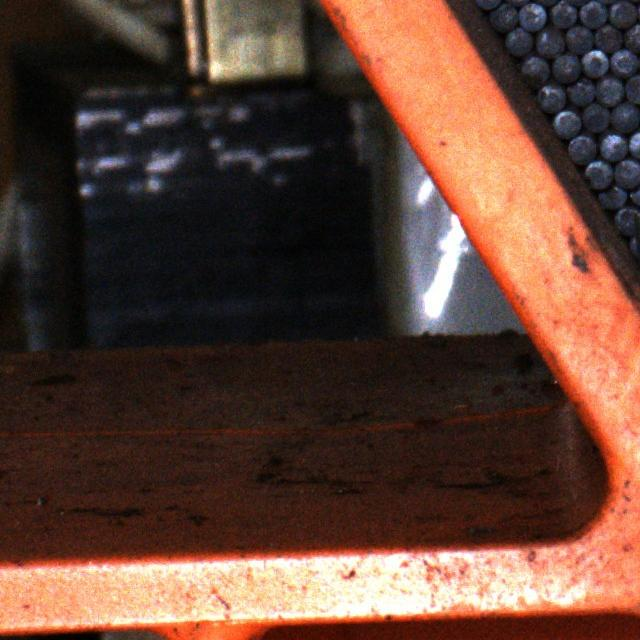tool: (608, 103, 637, 133), (521, 57, 549, 87), (566, 134, 594, 164), (536, 27, 564, 57), (608, 48, 636, 78), (566, 76, 594, 105), (592, 25, 622, 52), (490, 1, 516, 32), (578, 0, 606, 28), (608, 0, 636, 28), (594, 78, 622, 106), (552, 52, 578, 82), (552, 111, 580, 138), (518, 3, 546, 30), (549, 0, 576, 27), (536, 84, 564, 110), (614, 207, 640, 235), (582, 104, 608, 132), (614, 159, 640, 187), (506, 27, 532, 54), (584, 161, 610, 188), (565, 27, 591, 54), (580, 49, 606, 76), (600, 134, 626, 160), (596, 185, 624, 208), (623, 24, 640, 52), (624, 75, 640, 103)
